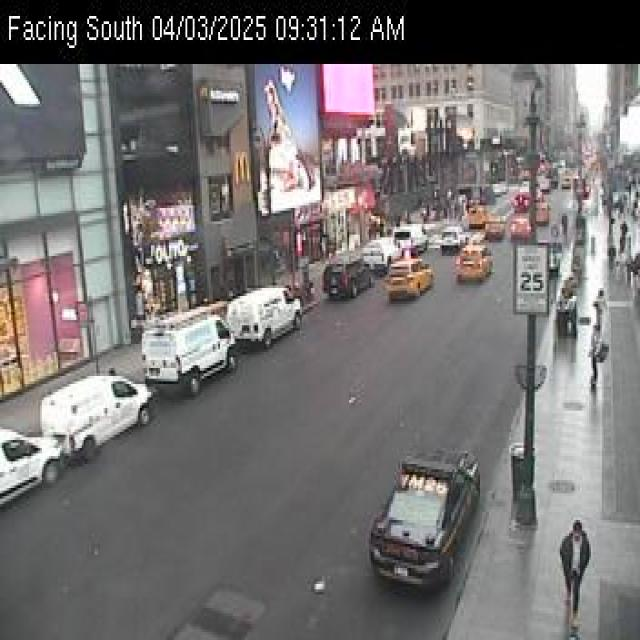open parking: (259, 229, 382, 336)
